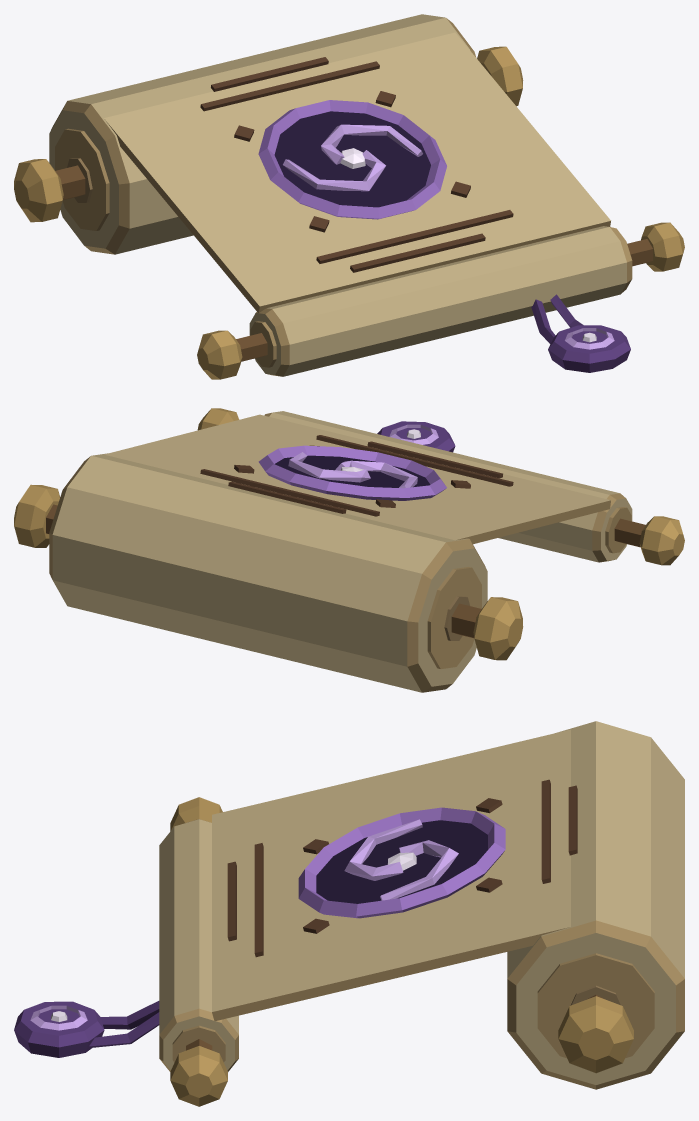
File: item_town_portal.glb
3 renders of one model, top to bottom at view 1: azimuth 30°, elevation 25°; view 2: azimuth 150°, elevation 25°; view 3: azimuth 270°, elevation 25°, orthographic. The views are drawn at different scales.
Visible parts, largest first — view 1: item_town_portal; view 2: item_town_portal; view 3: item_town_portal.
Boxes of the visible parts, <box> form: item_town_portal: <box>14,14,684,379</box>; item_town_portal: <box>14,408,684,692</box>; item_town_portal: <box>14,721,684,1106</box>.
Bounding box in the file's own units: 0.562 × 0.16 × 0.5747.
